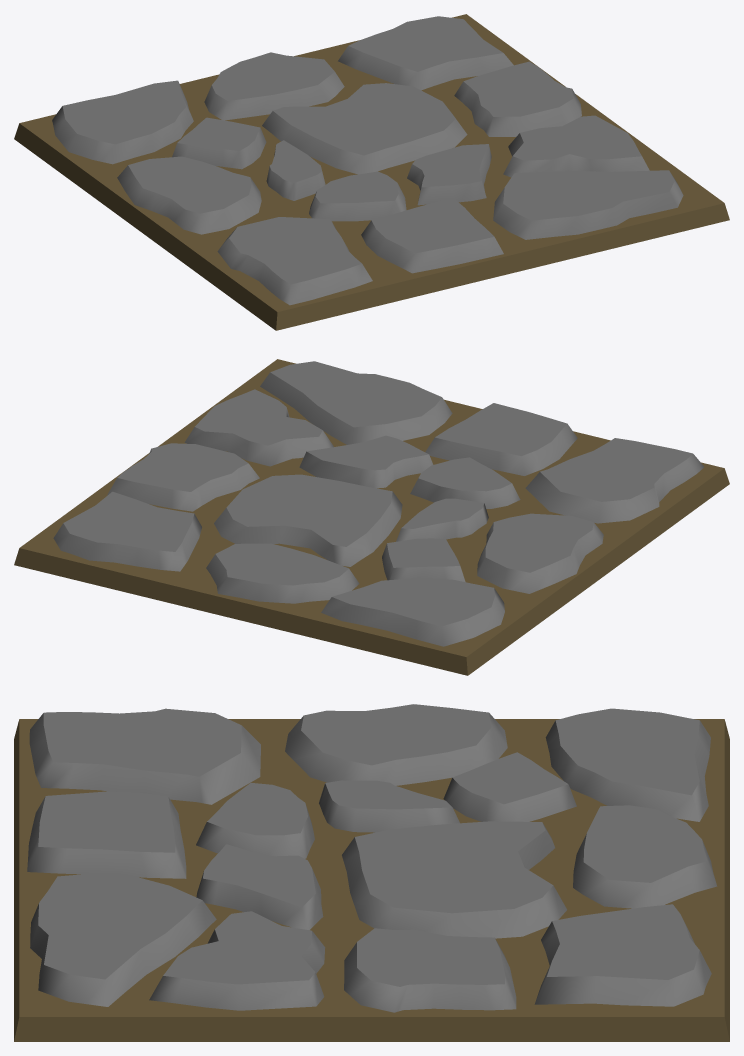
Rendered from exterior path tile.fbx.
3 views of the same model, one above another, from view 1: azimuth 30°, elevation 25°; view 2: azimuth 150°, elevation 25°; view 3: azimuth 270°, elevation 25° (orthographic). The views are drawn at different scales.
Visible parts, largest first — view 1: PAVEMENT; view 2: PAVEMENT; view 3: PAVEMENT.
Part boxes in pixels (<box>): PAVEMENT: <box>14,14,729,330</box>; PAVEMENT: <box>14,359,729,675</box>; PAVEMENT: <box>14,704,729,1041</box>.
Bounding box in the file's own units: 100 × 6.78 × 100.
